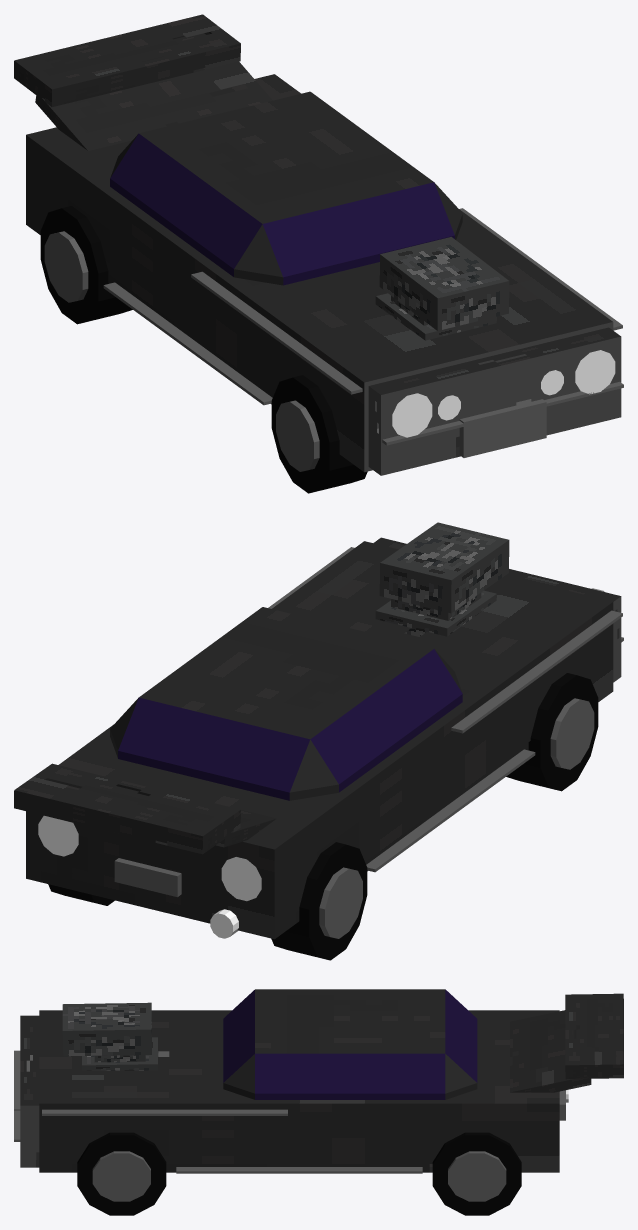
Rendered from charger.gltf.
3 views of the same model, one above another, from view 1: azimuth 30°, elevation 25°; view 2: azimuth 150°, elevation 25°; view 3: azimuth 270°, elevation 25° (orthographic). The views are drawn at different scales.
Visible parts, largest first — view 1: Chassi, beveled_cuboid, cylinder (×4), Placa_frente, circle (×2); view 2: Chassi, beveled_cuboid, cylinder (×5), circle (×2), Placa_frente; view 3: Chassi, beveled_cuboid, cylinder (×4).
Boxes of the visible parts, left/top/right/bottom form: Chassi: left=14, top=14, right=623, bottom=475; beveled_cuboid: left=110, top=91, right=462, bottom=285; cylinder (×4): left=40, top=206, right=367, bottom=493; Placa_frente: left=456, top=399, right=546, bottom=457; circle (×2): left=392, top=350, right=615, bottom=437; Chassi: left=14, top=522, right=623, bottom=939; beveled_cuboid: left=110, top=607, right=462, bottom=800; cylinder (×5): left=210, top=673, right=598, bottom=960; circle (×2): left=38, top=815, right=261, bottom=901; Placa_frente: left=114, top=858, right=181, bottom=897; Chassi: left=14, top=993, right=623, bottom=1173; beveled_cuboid: left=223, top=989, right=477, bottom=1099; cylinder (×4): left=77, top=1132, right=521, bottom=1215.
Size of the model in its own units: 0.6063 by 0.4081 by 1.5.
Materials: 10 (7 with a texture image).
